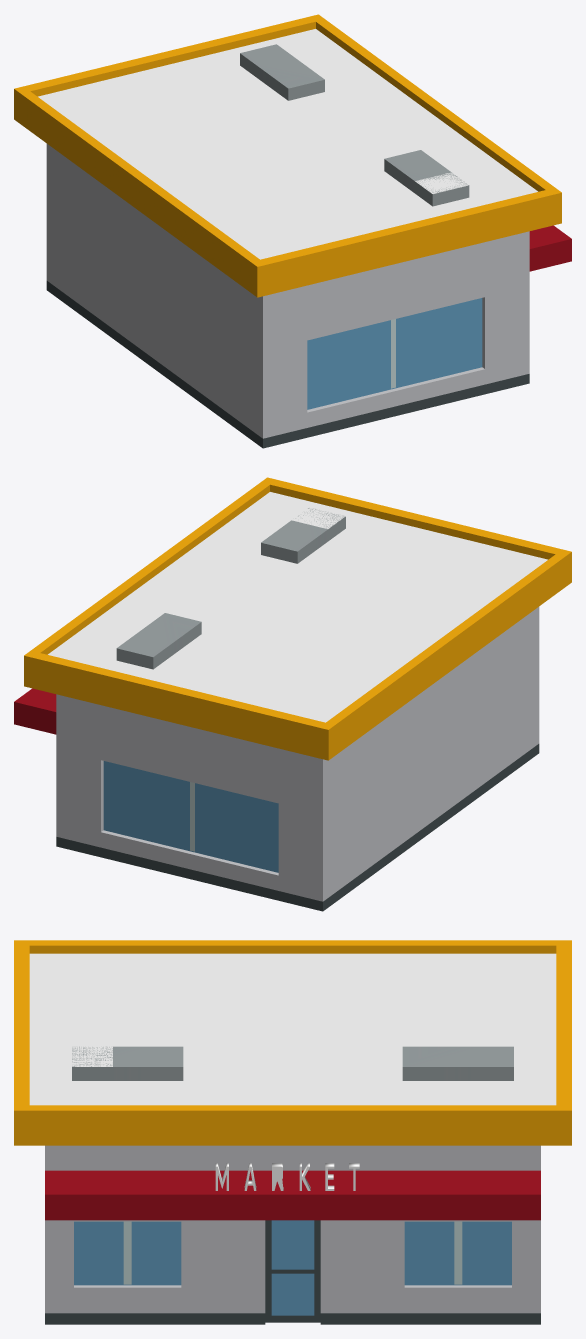
File: gas_station.fbx
3 renders of one model, top to bottom at view 1: azimuth 30°, elevation 25°; view 2: azimuth 150°, elevation 25°; view 3: azimuth 270°, elevation 25°, orthographic. The views are drawn at different scales.
Parts seen in each view (by area): view 1: Cube.001; view 2: Cube.001; view 3: Cube.001.
Boxes of the visible parts, <box> form: Cube.001: <box>14,14,571,448</box>; Cube.001: <box>14,477,571,911</box>; Cube.001: <box>14,940,571,1324</box>.
Bounding box in the file's own units: 1400 × 821 × 1800.
